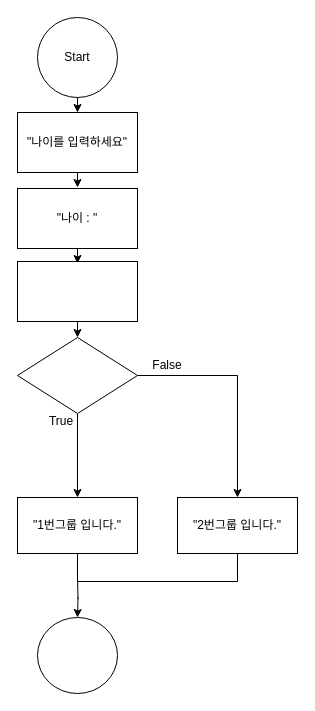
The diagram is 315 pixels wide and 711 high, and some of its shapes have lost their labels. Each missing label, with the centre of its shape:
"19 <= age && age < 65" goes at [77,375].
"end" goes at [77,655].
"나이 입력 age" goes at [77,291].
